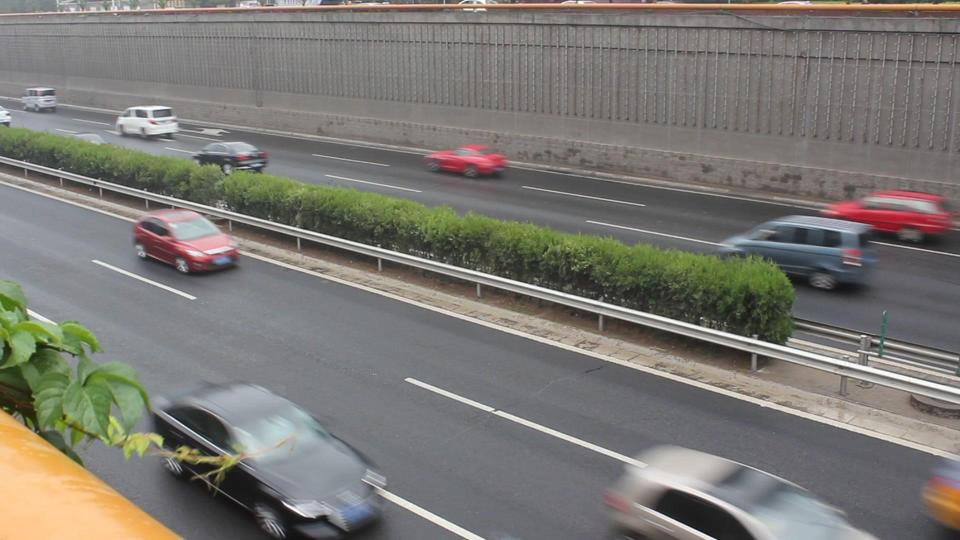Car: (147, 371, 392, 530), (604, 439, 872, 540), (713, 214, 876, 290), (132, 203, 244, 277), (817, 185, 934, 241), (421, 141, 508, 184), (192, 134, 267, 173)
